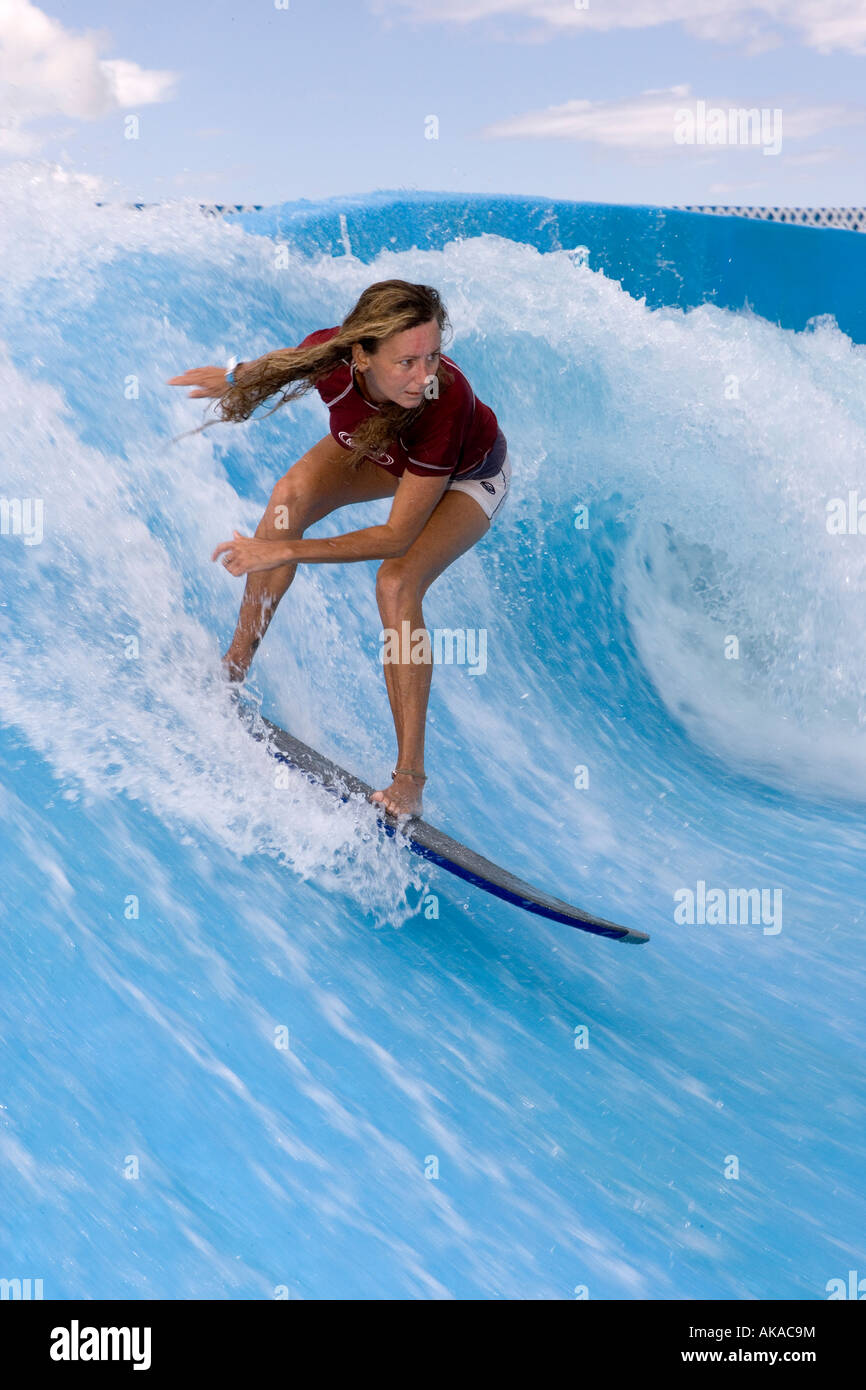person: (164, 243, 538, 827)
